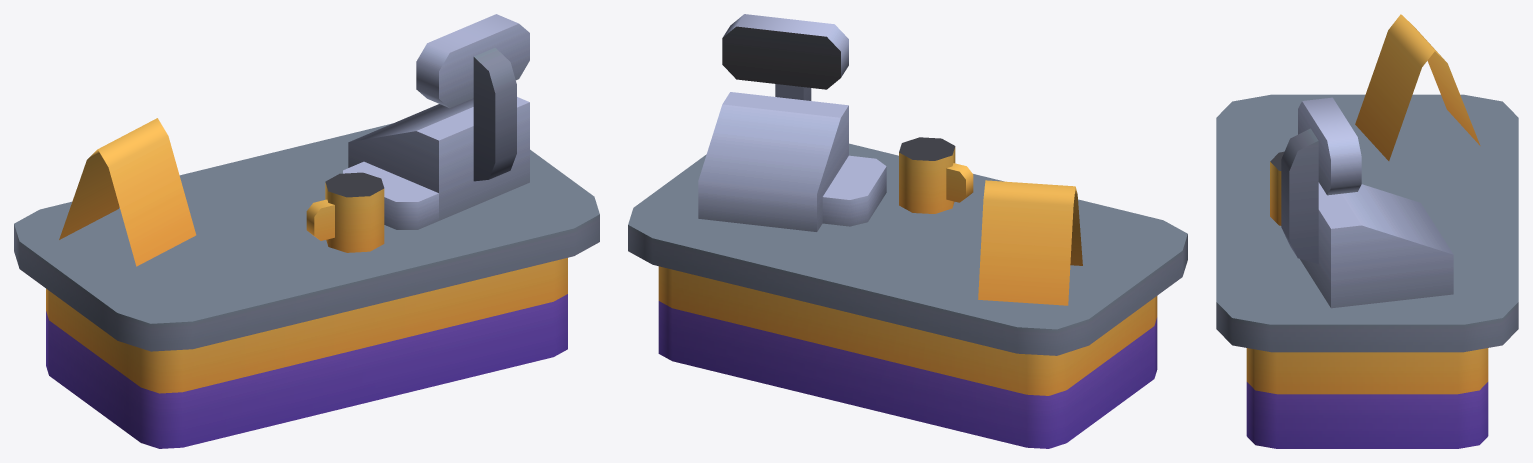
The model's file is arcade.cash_register.glb.
3 renders of one model, left to right at view 1: azimuth 30°, elevation 25°; view 2: azimuth 150°, elevation 25°; view 3: azimuth 270°, elevation 25°, orthographic. The views are drawn at different scales.
Parts seen in each view (by area): view 1: cash-register; view 2: cash-register; view 3: cash-register.
Part boxes in pixels (left/top/right/bottom): cash-register: left=14, top=14, right=599, bottom=448; cash-register: left=628, top=14, right=1187, bottom=448; cash-register: left=1216, top=14, right=1518, bottom=448.
Size of the model in its own units: 2.23 by 1.35 by 1.24.
Materials: 1 (1 with a texture image).
